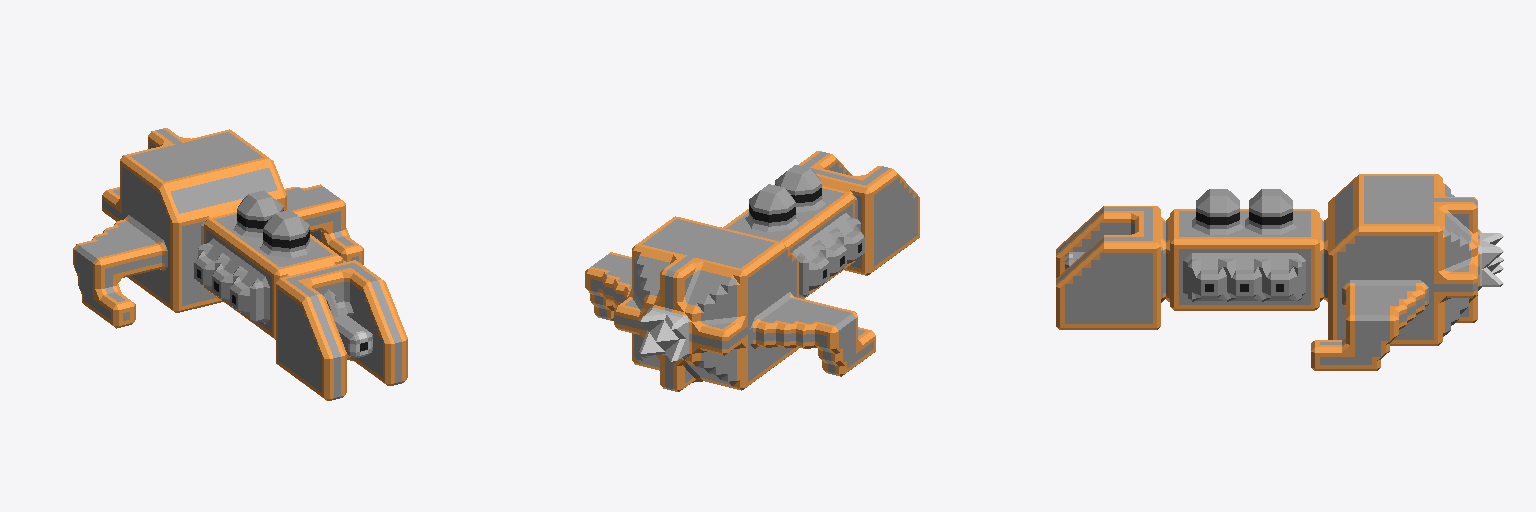
3 views of the same model, side by side, from view 1: azimuth 30°, elevation 25°; view 2: azimuth 150°, elevation 25°; view 3: azimuth 270°, elevation 25° (orthographic).
Size of the model in its own units: 33 by 16 by 51.
1 materials, 1 textured.